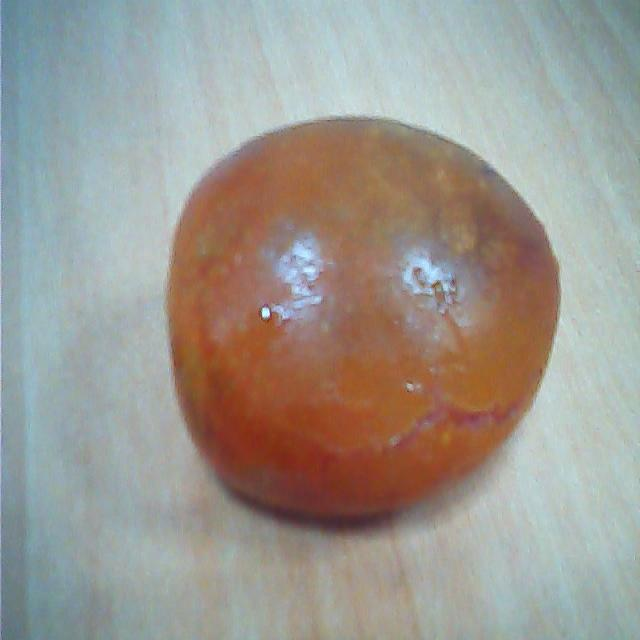defectuoso: (138, 114, 564, 524)
